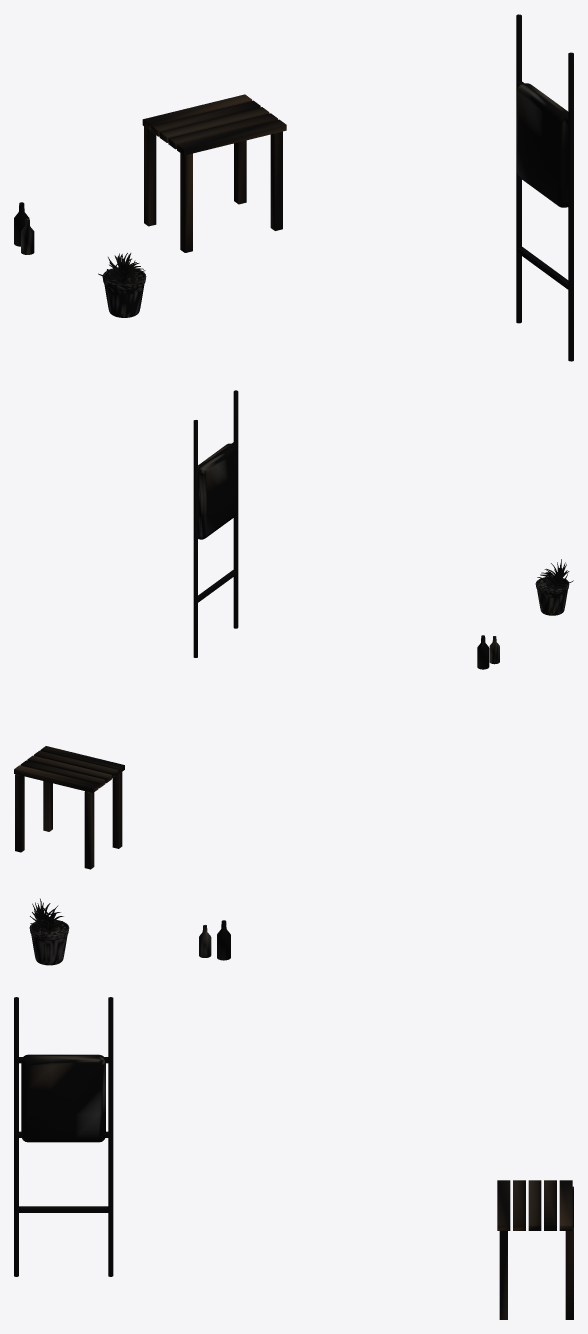
File: decor-ensuite.glb
3 renders of one model, top to bottom at view 1: azimuth 30°, elevation 25°; view 2: azimuth 150°, elevation 25°; view 3: azimuth 270°, elevation 25°, orthographic. The views are drawn at different scales.
Visible parts, largest first — view 1: V|decor|ldk|wooden_bowl_01:a.061, V|decor|ldk|wooden_bowl_01:a.063, V|decor|ldk|wooden_bowl_01:a.062, V|decor|ldk|wooden_bowl_01:a.058; view 2: V|decor|ldk|wooden_bowl_01:a.061, V|decor|ldk|wooden_bowl_01:a.063, V|decor|ldk|wooden_bowl_01:a.062, V|decor|ldk|wooden_bowl_01:a.058; view 3: V|decor|ldk|wooden_bowl_01:a.063, V|decor|ldk|wooden_bowl_01:a.061, V|decor|ldk|wooden_bowl_01:a.062, V|decor|ldk|wooden_bowl_01:a.058.
Part boxes in pixels (x1=…): V|decor|ldk|wooden_bowl_01:a.061: x1=142, y1=94, x2=286, y2=252; V|decor|ldk|wooden_bowl_01:a.063: x1=516, y1=83, x2=568, y2=207; V|decor|ldk|wooden_bowl_01:a.062: x1=516, y1=14, x2=573, y2=361; V|decor|ldk|wooden_bowl_01:a.058: x1=98, y1=253, x2=146, y2=317; V|decor|ldk|wooden_bowl_01:a.061: x1=14, y1=746, x2=124, y2=869; V|decor|ldk|wooden_bowl_01:a.063: x1=198, y1=443, x2=237, y2=539; V|decor|ldk|wooden_bowl_01:a.062: x1=193, y1=390, x2=238, y2=657; V|decor|ldk|wooden_bowl_01:a.058: x1=535, y1=559, x2=573, y2=615; V|decor|ldk|wooden_bowl_01:a.063: x1=21, y1=1054, x2=105, y2=1142; V|decor|ldk|wooden_bowl_01:a.061: x1=497, y1=1180, x2=573, y2=1319; V|decor|ldk|wooden_bowl_01:a.062: x1=14, y1=997, x2=113, y2=1276; V|decor|ldk|wooden_bowl_01:a.058: x1=29, y1=898, x2=69, y2=965.
Size of the model in its own units: 2.05 by 1.55 by 2.38.
Materials: 6 (1 with a texture image).
